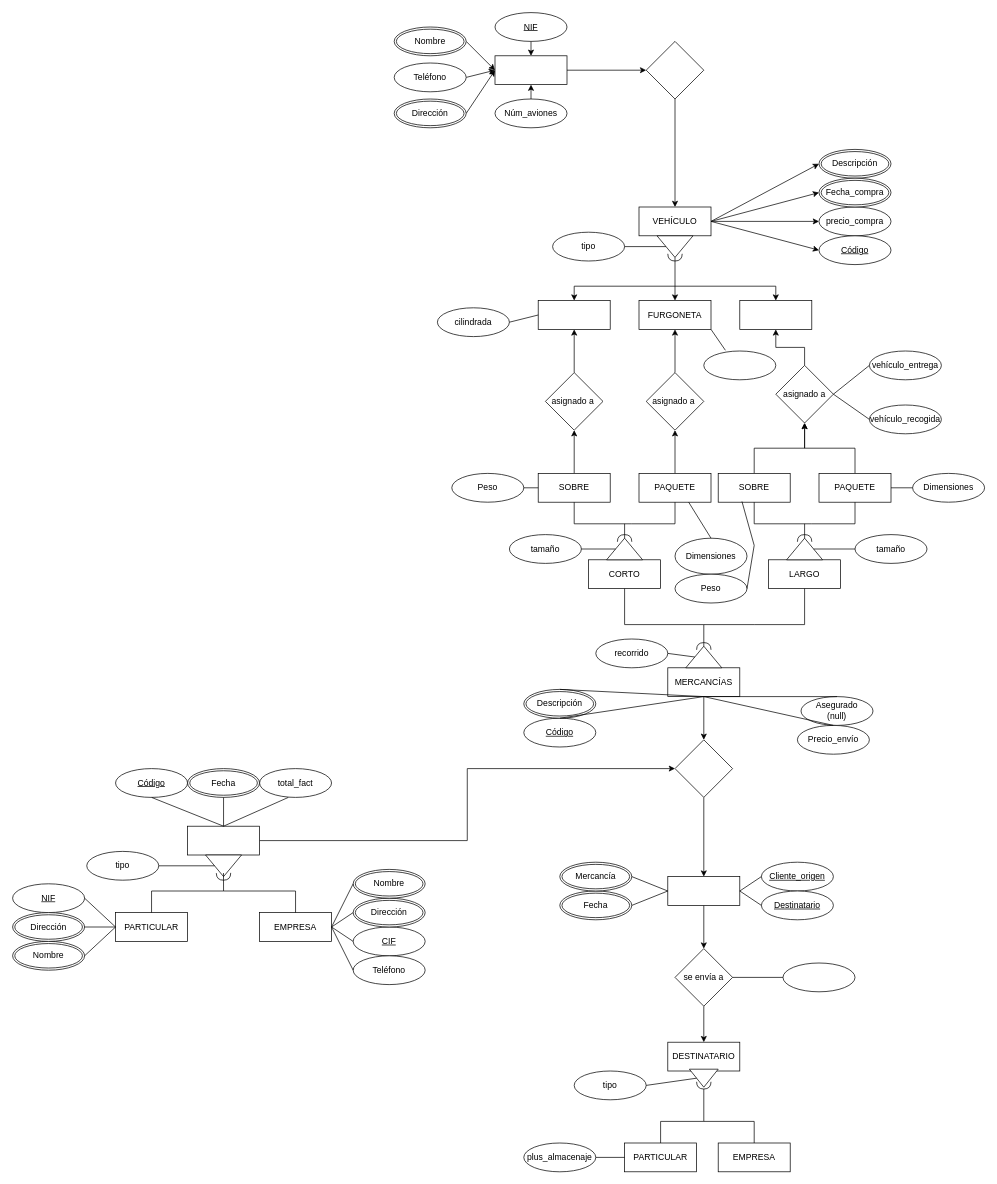
Some shapes in this 997 by 1184 pixel diagram are drawn without their labels. Each missing label, with the centre of its shape:
"AVIÓN" goes at (775,314).
"capacidad" goes at (739,365).
"CLIENTE" goes at (223,840).
"encarga" goes at (703,768).
"ENVÍO" goes at (703,890).
"esta a cargo" goes at (674,70).
"MOTO" goes at (573,314).
"Núm_intentos" goes at (818,977).
"SUPERVISOR" goes at (530,70).
